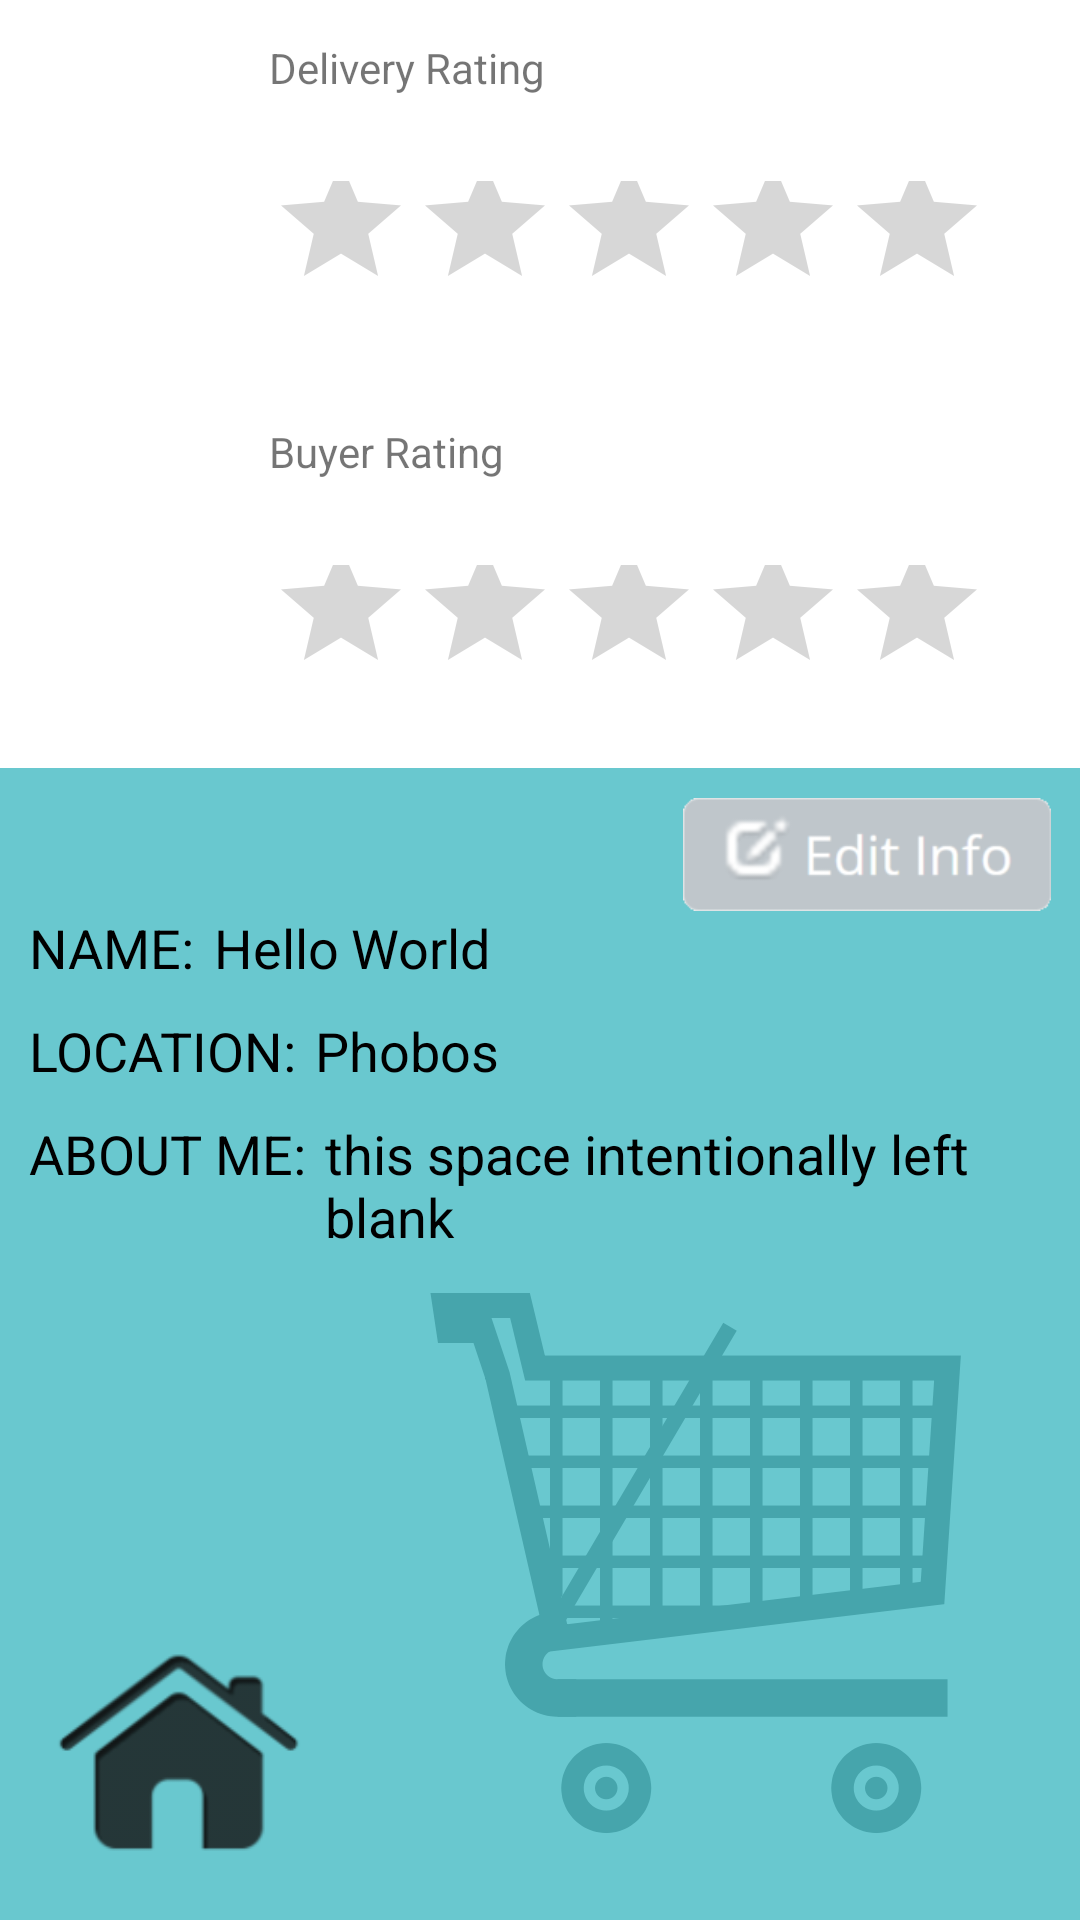

Where icons sit on this 1080 x 1920 app screen, as (x1,y1,x2,y2):
home: (59,1654,298,1850)
